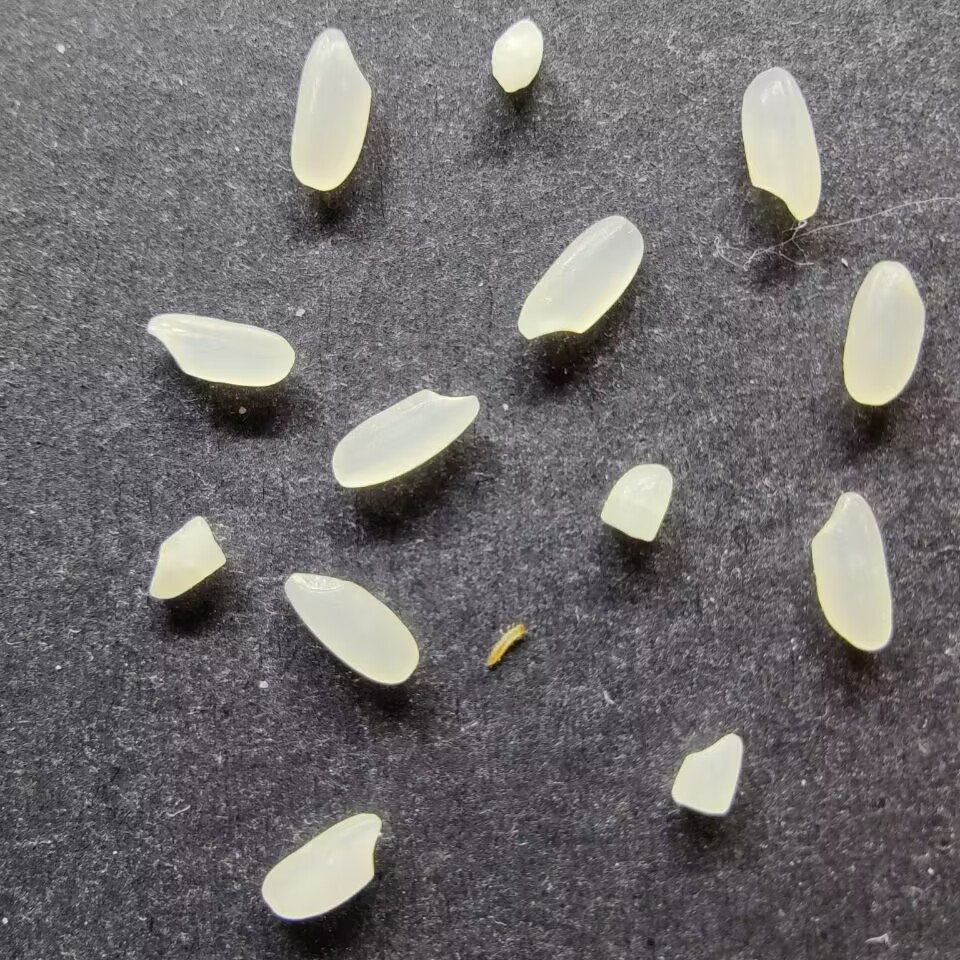broken: (146, 514, 225, 600), (671, 732, 743, 815), (599, 462, 673, 542), (490, 18, 544, 92)
others: (483, 620, 534, 668)
rice: (516, 215, 644, 340), (283, 572, 418, 686), (331, 389, 480, 488), (289, 27, 371, 191), (810, 491, 893, 651), (260, 812, 380, 920), (740, 67, 821, 220), (842, 260, 925, 406), (146, 313, 294, 386)
